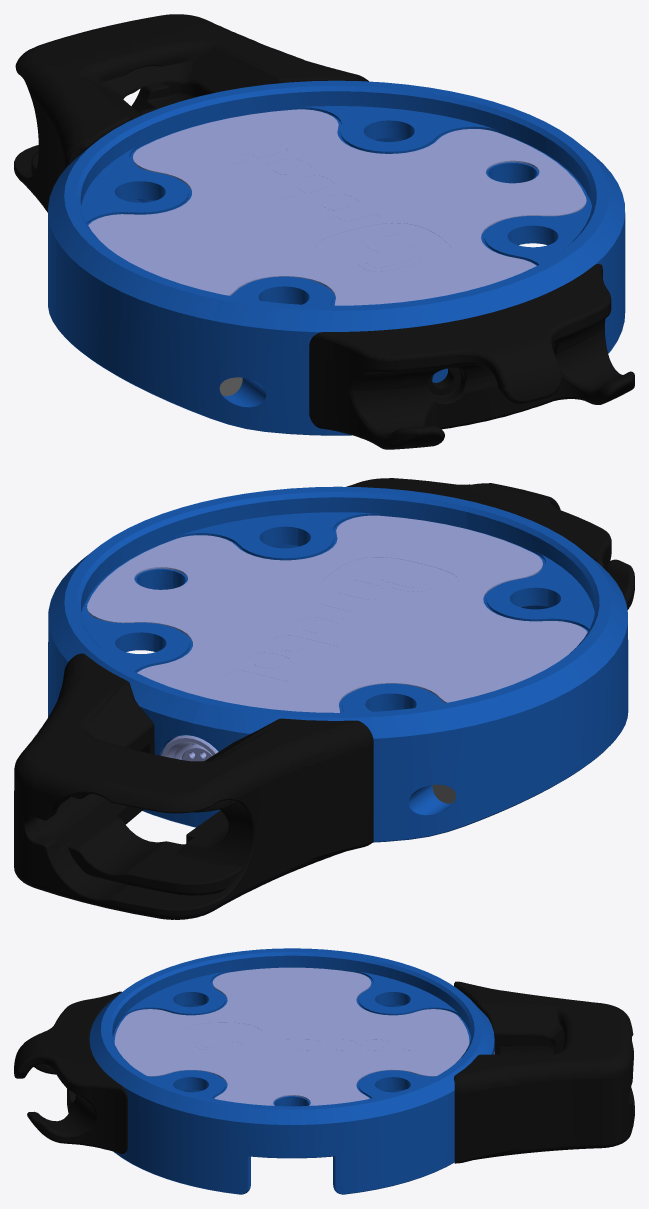
File: quick_changer.dae
3 views of the same model, one above another, from view 1: azimuth 30°, elevation 25°; view 2: azimuth 150°, elevation 25°; view 3: azimuth 270°, elevation 25° (orthographic). The views are drawn at different scales.
Parts seen in each view (by area): view 1: nodes[0], nodes[3], nodes[6], nodes[7], nodes[5]; view 2: nodes[0], nodes[3], nodes[7], nodes[5], nodes[6], nodes[2]; view 3: nodes[0], nodes[3], nodes[7], nodes[5], nodes[6].
Part boxes in pixels (x1=…): nodes[0]: x1=48, y1=80, x2=625, y2=435; nodes[3]: x1=88, y1=109, x2=586, y2=305; nodes[6]: x1=309, y1=264, x2=634, y2=449; nodes[7]: x1=14, y1=14, x2=359, y2=212; nodes[5]: x1=31, y1=46, x2=368, y2=179; nodes[0]: x1=48, y1=486, x2=628, y2=842; nodes[3]: x1=87, y1=515, x2=587, y2=712; nodes[7]: x1=14, y1=669, x2=344, y2=919; nodes[5]: x1=57, y1=653, x2=373, y2=895; nodes[6]: x1=346, y1=478, x2=634, y2=609; nodes[2]: x1=161, y1=735, x2=218, y2=761; nodes[0]: x1=89, y1=948, x2=494, y2=1194; nodes[3]: x1=114, y1=967, x2=469, y2=1105; nodes[7]: x1=454, y1=983, x2=634, y2=1159; nodes[5]: x1=454, y1=981, x2=564, y2=1163; nodes[6]: x1=14, y1=991, x2=127, y2=1153.
Bounding box in the file's own units: 70.99 × 17.06 × 109.
